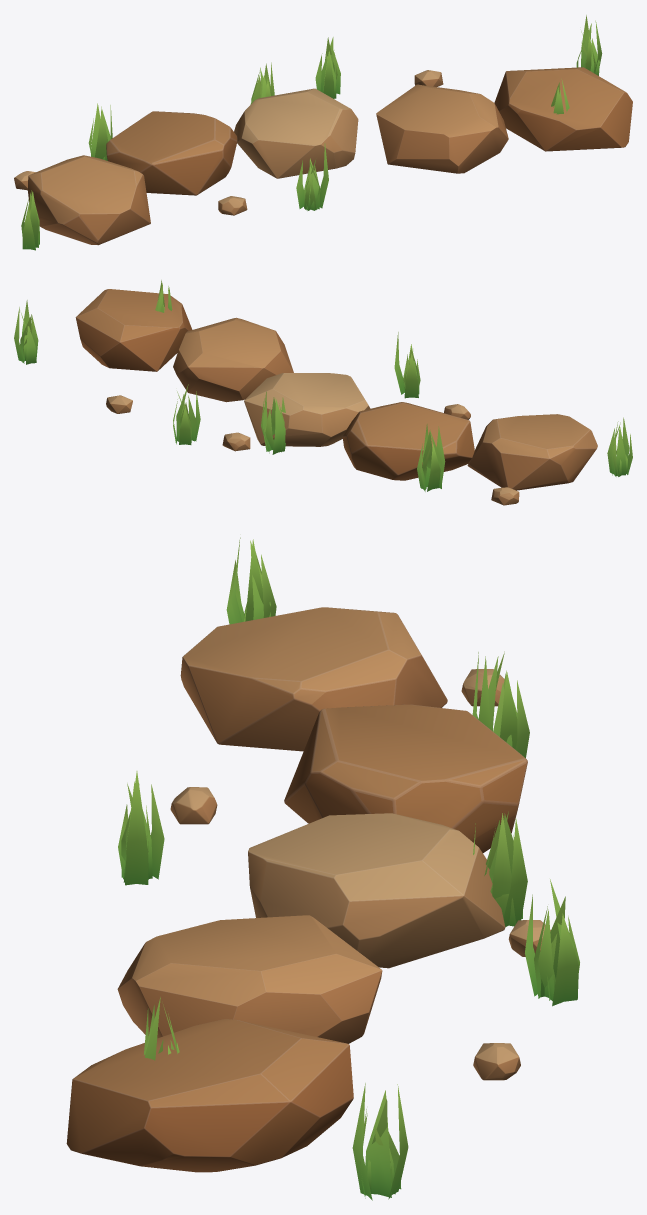
File: path_stepping_a.glb
3 renders of one model, top to bottom at view 1: azimuth 30°, elevation 25°; view 2: azimuth 150°, elevation 25°; view 3: azimuth 270°, elevation 25°, orthographic. The views are drawn at different scales.
Visible parts, largest first — view 1: path_stepping_a; view 2: path_stepping_a; view 3: path_stepping_a.
Part boxes in pixels (<box>): path_stepping_a: <box>14,15,632,250</box>; path_stepping_a: <box>14,280,632,505</box>; path_stepping_a: <box>66,537,579,1200</box>.
Size of the model in its own units: 2.3 by 0.2471 by 0.8817.
